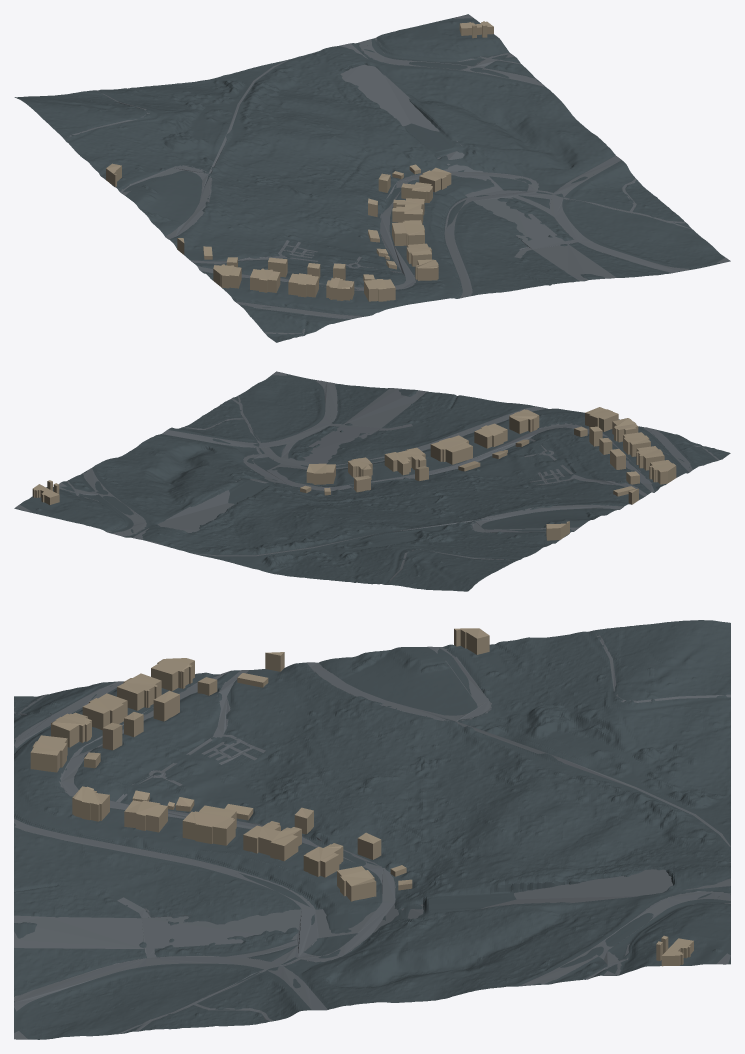
Rendered from epsg26910-1423-10894.lod0.glb.
3 renders of one model, top to bottom at view 1: azimuth 30°, elevation 25°; view 2: azimuth 150°, elevation 25°; view 3: azimuth 270°, elevation 25°, orthographic. The views are drawn at different scales.
Visible parts, largest first — view 1: epsg26910-1423-10894-lod0; view 2: epsg26910-1423-10894-lod0; view 3: epsg26910-1423-10894-lod0.
Boxes of the visible parts, left/top/right/bottom form: epsg26910-1423-10894-lod0: left=14, top=14, right=730, bottom=342; epsg26910-1423-10894-lod0: left=14, top=371, right=730, bottom=591; epsg26910-1423-10894-lod0: left=14, top=620, right=730, bottom=1039.
Size of the model in its own units: 384 by 69.09 by 384.
